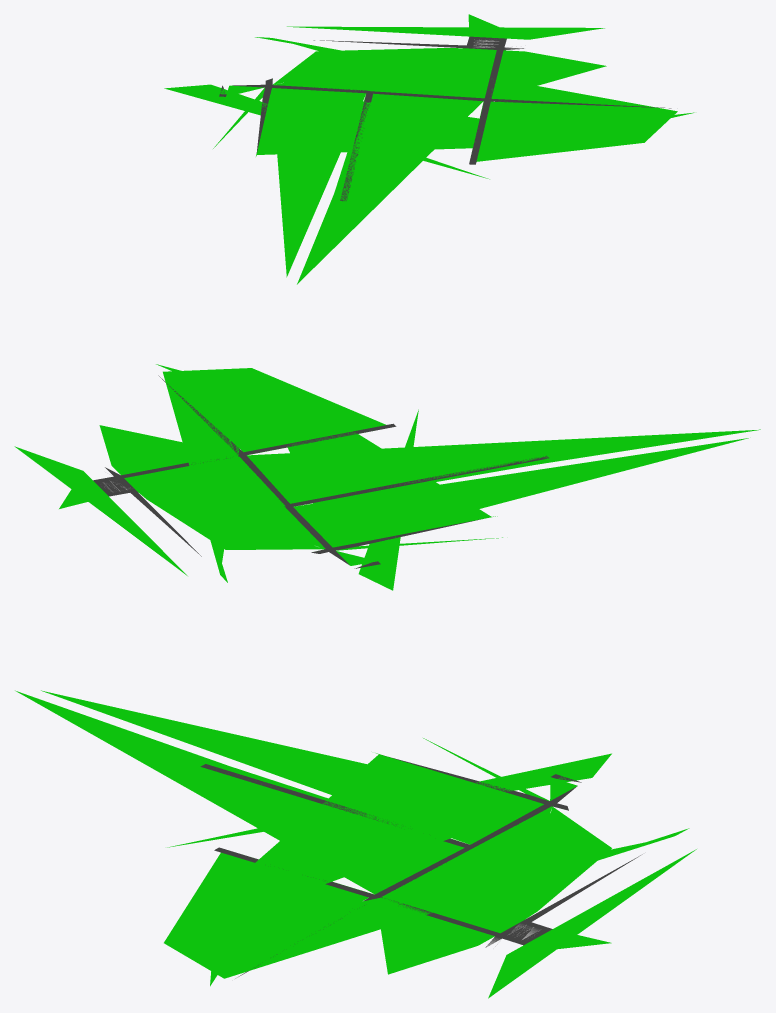
3 views of the same model, one above another, from view 1: azimuth 30°, elevation 25°; view 2: azimuth 150°, elevation 25°; view 3: azimuth 270°, elevation 25° (orthographic). The views are drawn at different scales.
Bounding box in the file's own units: 293 × 0.001 × 300.
